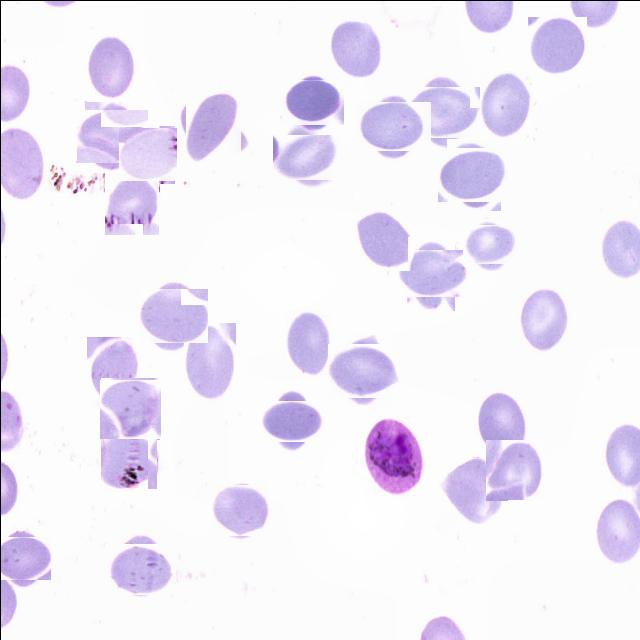red blood cell: (441, 457, 507, 522), (181, 94, 245, 158), (183, 322, 235, 400), (411, 80, 474, 143), (361, 94, 424, 157), (332, 338, 394, 402), (80, 104, 142, 167), (442, 142, 504, 205), (478, 68, 532, 140), (142, 284, 204, 346), (400, 242, 460, 304), (352, 209, 412, 270), (99, 378, 160, 438), (86, 31, 136, 101), (108, 539, 167, 598), (527, 16, 586, 75), (485, 439, 543, 499), (104, 172, 159, 235), (517, 287, 569, 353), (474, 390, 526, 456), (86, 336, 138, 401), (100, 430, 158, 488), (276, 128, 334, 184), (213, 482, 270, 538), (119, 126, 175, 182), (285, 309, 331, 377), (329, 18, 381, 77), (284, 75, 338, 129), (266, 394, 317, 446), (0, 533, 47, 584), (465, 221, 511, 267)
trophozoite: (363, 417, 424, 497)
